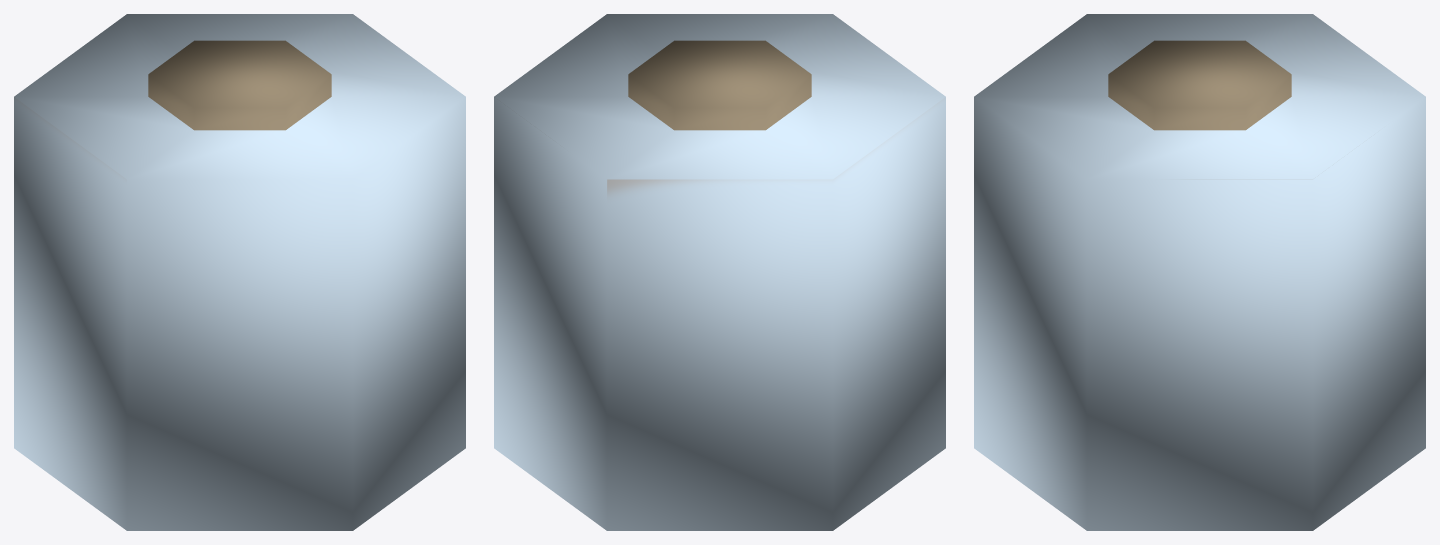
File: ToiletPaper_bathroom_v3.fbx
3 renders of one model, left to right at view 1: azimuth 30°, elevation 25°; view 2: azimuth 150°, elevation 25°; view 3: azimuth 270°, elevation 25°, orthographic.
Parts seen in each view (by area): view 1: Cylinder; view 2: Cylinder; view 3: Cylinder.
Boxes of the visible parts, x1,y1,x2,y2 form: Cylinder: (14, 14, 465, 530); Cylinder: (494, 14, 945, 530); Cylinder: (974, 14, 1425, 530).
Bounding box in the file's own units: 13.58 × 14.31 × 15.68.
